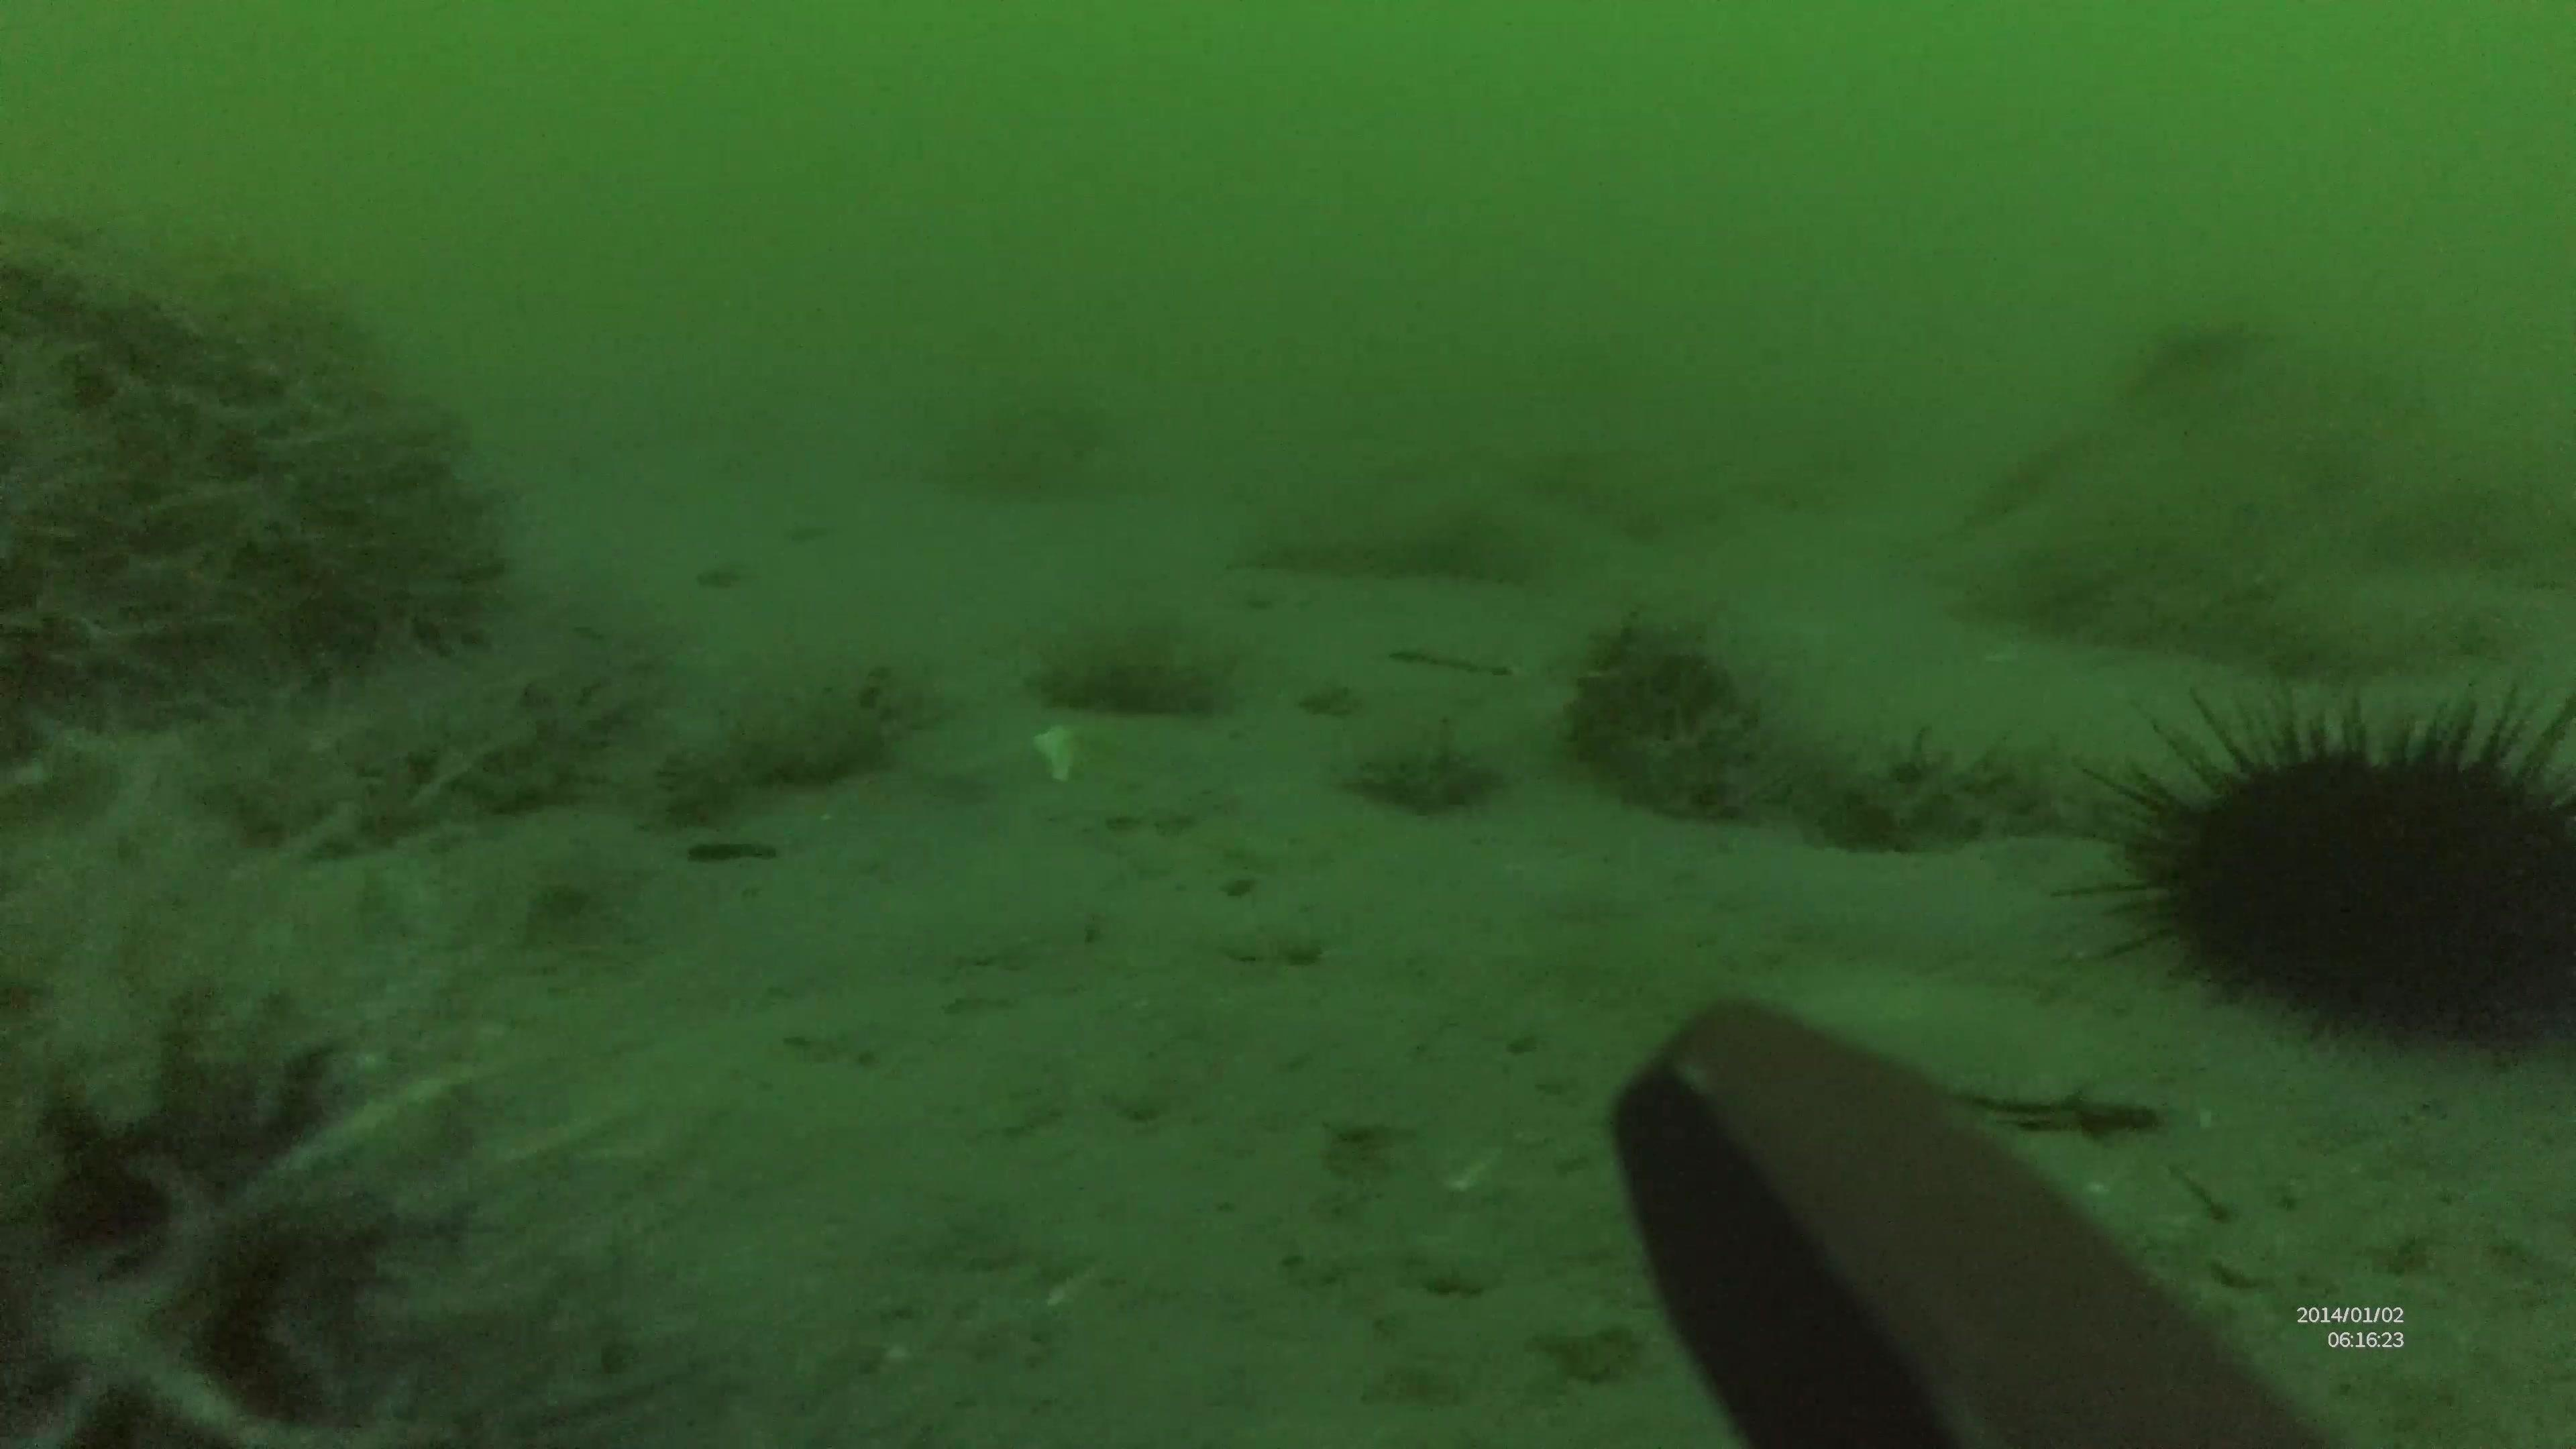echinus: (2054, 679, 2576, 1035)
scallop: (1798, 984, 2167, 1136)
